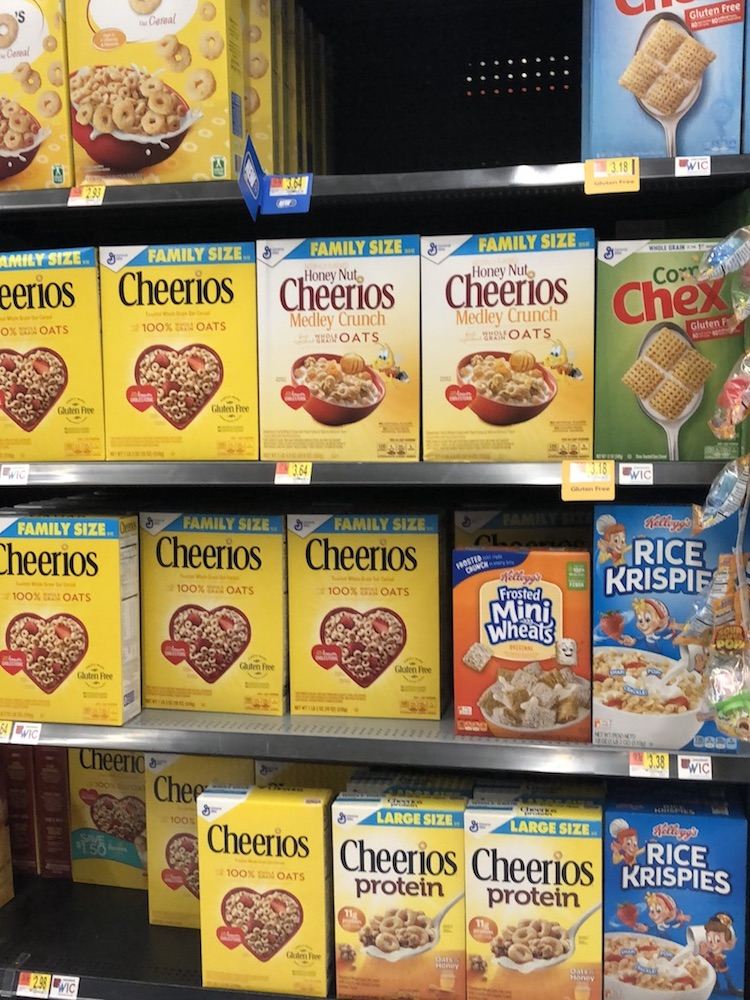Frosted Mini Original -9295869: (444, 543, 597, 746)
